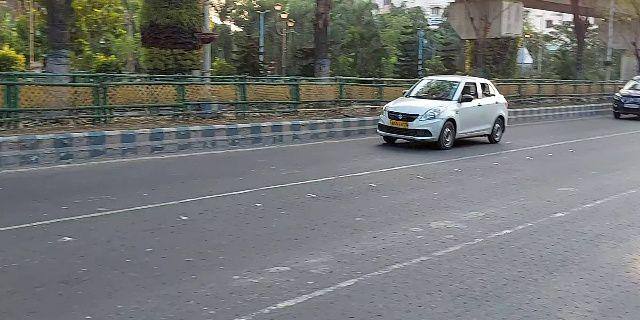Car: (375, 71, 514, 151), (612, 72, 640, 124)
